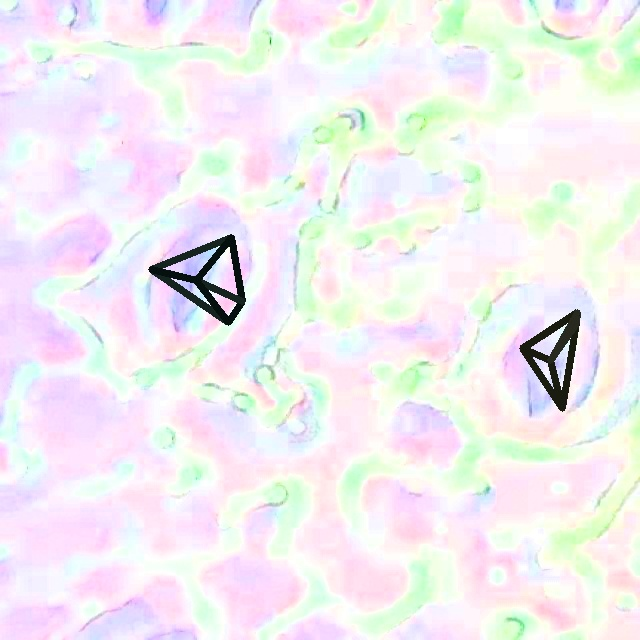open: (148, 234, 245, 325), (520, 309, 579, 411)
